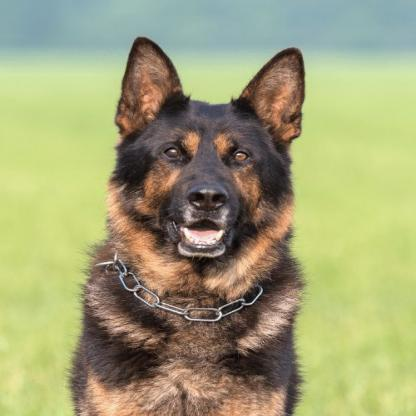dog: (67, 42, 307, 416)
